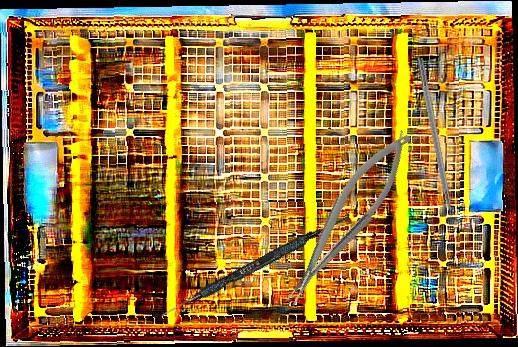Hook Surgical: (415, 57, 459, 238)
Needle Holder: (268, 122, 426, 312)
Spatula Surgical: (152, 210, 347, 327)
